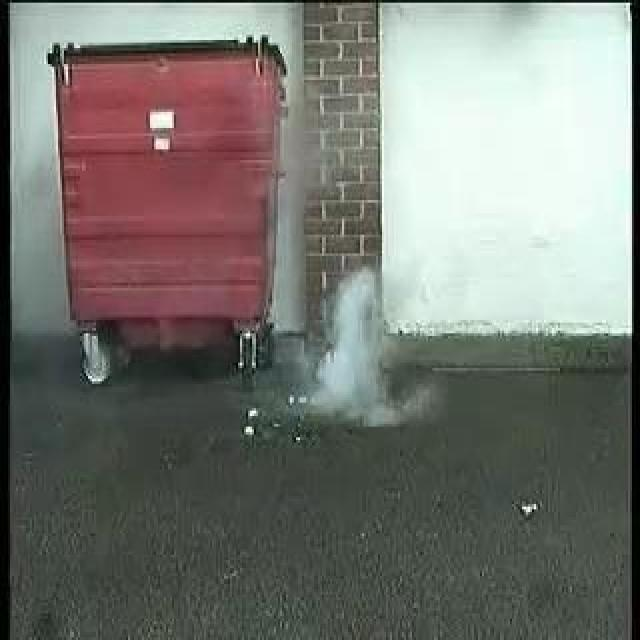Smoke: (310, 276, 406, 433)
